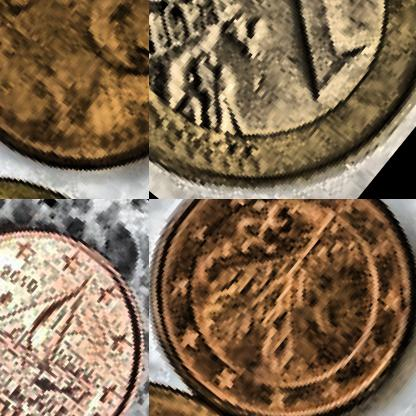coin: (149, 199, 415, 415), (149, 0, 415, 198), (0, 199, 148, 415), (0, 0, 148, 198)
